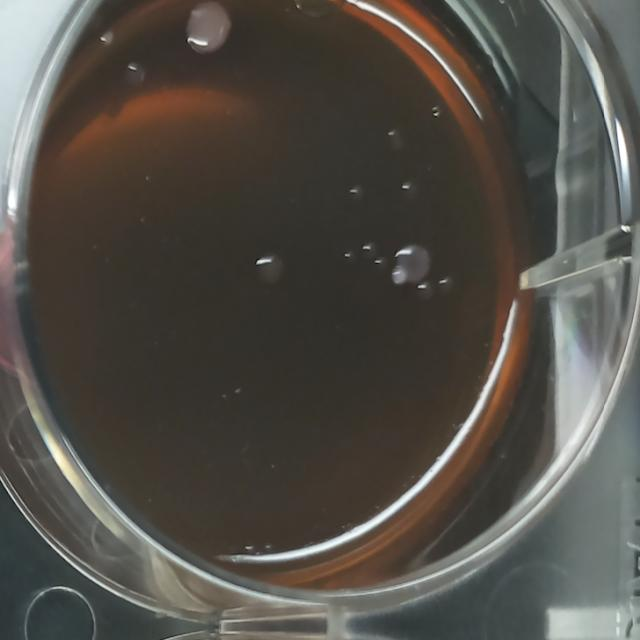Bacillus: (180, 0, 236, 61)
Staphylococcus: (388, 262, 410, 290)
Vibrio: (249, 247, 288, 294), (383, 125, 410, 158), (396, 173, 421, 206), (344, 180, 370, 210), (437, 273, 457, 297), (415, 278, 434, 302), (341, 246, 358, 269), (359, 240, 377, 260), (372, 254, 389, 274)
